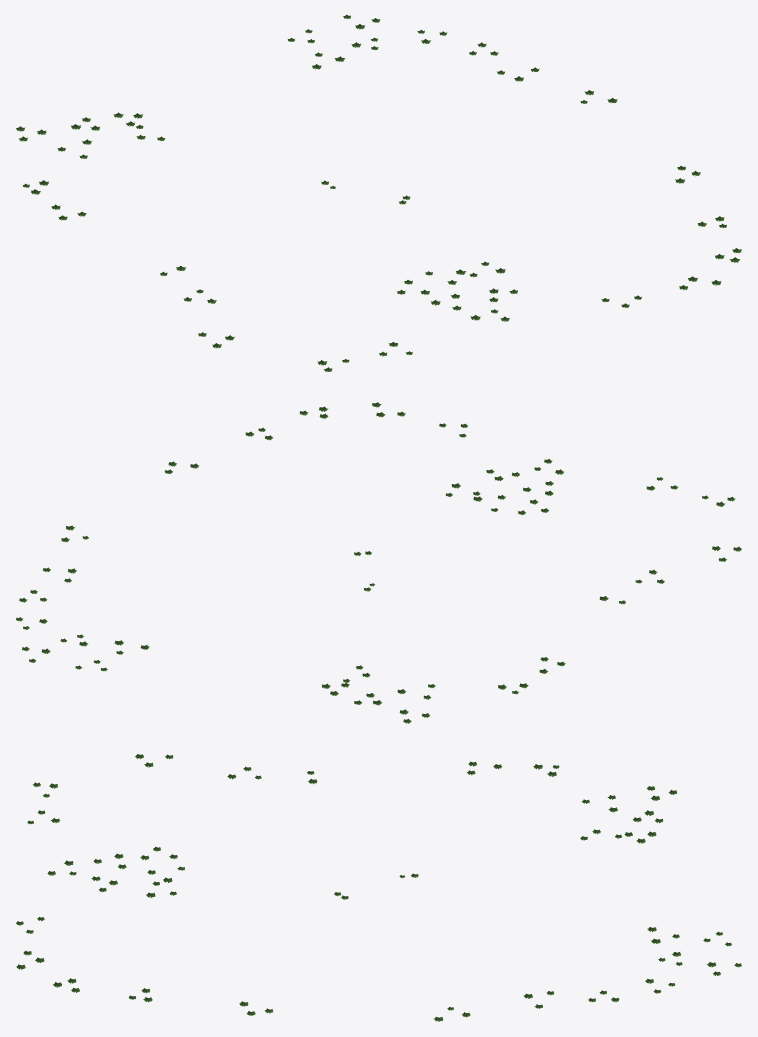
File: duckov_woodland_sway.obj
The picture shows the model from 3 angles, top to bottom: view 1: azimuth 30°, elevation 25°; view 2: azimuth 150°, elevation 25°; view 3: azimuth 270°, elevation 25°; orthographic projection. The views are drawn at different scales.
Visible parts, largest first — view 1: DuckovWoodlandSway; view 2: DuckovWoodlandSway; view 3: DuckovWoodlandSway.
Boxes of the visible parts, box(x1,y1,x2,y2) form: DuckovWoodlandSway: box(16, 14, 741, 371); DuckovWoodlandSway: box(16, 402, 741, 723); DuckovWoodlandSway: box(16, 754, 741, 1021).
Size of the model in its own units: 75.52 by 0.3338 by 86.8.
